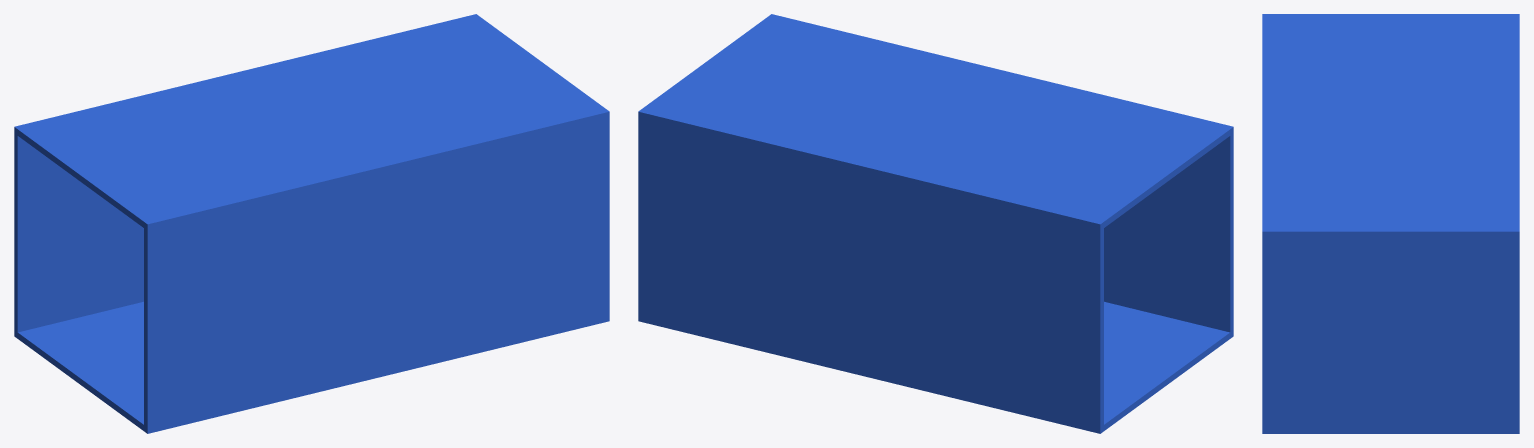
The model's file is test_containers_6x3.glb.
3 views of the same model, side by side, from view 1: azimuth 30°, elevation 25°; view 2: azimuth 150°, elevation 25°; view 3: azimuth 270°, elevation 25° (orthographic). The views are drawn at different scales.
Visible parts, largest first — view 1: Container_6x3, Container_6x3_left-convcol, Container_6x3_top-convcol, Container_6x3_right-convcol, Container_6x3_bottom-convcol; view 2: Container_6x3, Container_6x3_top-convcol, Container_6x3_right-convcol, Container_6x3_left-convcol, Container_6x3_bottom-convcol; view 3: Container_6x3, Container_6x3_top-convcol, Container_6x3_back-convcol, Container_6x3_bottom-convcol, Container_6x3_right-convcol, Container_6x3_left-convcol.
Boxes of the visible parts, x1=… form: Container_6x3: x1=14, y1=14, x2=609, y2=433; Container_6x3_left-convcol: x1=144, y1=119, x2=609, y2=427; Container_6x3_top-convcol: x1=14, y1=14, x2=609, y2=230; Container_6x3_right-convcol: x1=14, y1=133, x2=143, y2=332; Container_6x3_bottom-convcol: x1=15, y1=315, x2=608, y2=433; Container_6x3: x1=638, y1=14, x2=1233, y2=433; Container_6x3_top-convcol: x1=638, y1=14, x2=1233, y2=230; Container_6x3_right-convcol: x1=779, y1=153, x2=1103, y2=426; Container_6x3_left-convcol: x1=1104, y1=133, x2=1233, y2=331; Container_6x3_bottom-convcol: x1=638, y1=315, x2=1178, y2=433; Container_6x3: x1=1262, y1=14, x2=1519, y2=433; Container_6x3_top-convcol: x1=1262, y1=14, x2=1519, y2=237; Container_6x3_back-convcol: x1=1269, y1=238, x2=1512, y2=427; Container_6x3_bottom-convcol: x1=1262, y1=427, x2=1519, y2=433; Container_6x3_right-convcol: x1=1513, y1=238, x2=1519, y2=427; Container_6x3_left-convcol: x1=1262, y1=238, x2=1268, y2=427.
Size of the model in its own units: 6 by 2.6 by 3.
